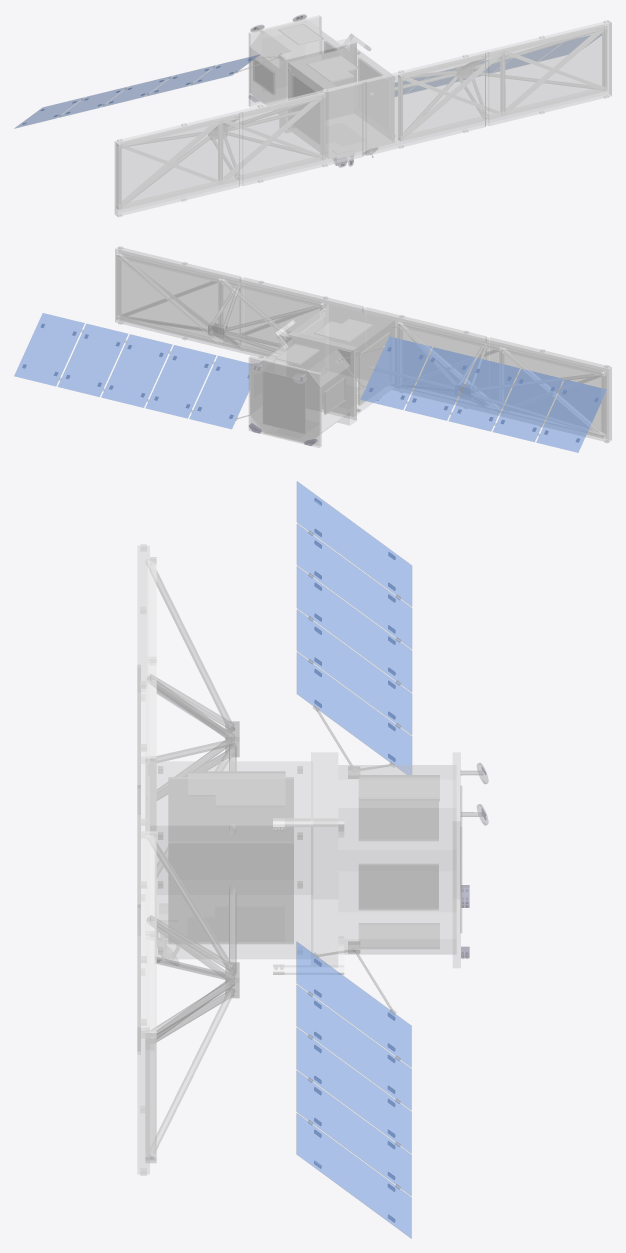
The model's file is radar-satellite-1-radarsat-1.glb.
3 renders of one model, top to bottom at view 1: azimuth 30°, elevation 25°; view 2: azimuth 150°, elevation 25°; view 3: azimuth 270°, elevation 25°, orthographic. The views are drawn at different scales.
Visible parts, largest first — view 1: mesh_0_5, mesh_0_4, mesh_0, mesh_0_16, mesh_0_8, mesh_0_12, mesh_0_1, mesh_0_14, mesh_0_9, mesh_0_6, mesh_0_15, mesh_0_10; view 2: mesh_0_9, mesh_0_8, mesh_0_4, mesh_0_5, mesh_0, mesh_0_15, mesh_0_12, mesh_0_16, mesh_0_1, mesh_0_14, mesh_0_6, mesh_0_7 (+2 smaller); view 3: mesh_0_9, mesh_0_8, mesh_0_14, mesh_0_12, mesh_0_16, mesh_0, mesh_0_1, mesh_0_4, mesh_0_10, mesh_0_5, mesh_0_2, mesh_0_7.
Boxes of the visible parts, x1,y1,x2,y2 form: mesh_0_5: (118, 23, 611, 216); mesh_0_4: (115, 22, 608, 213); mesh_0: (115, 15, 611, 217); mesh_0_16: (263, 19, 390, 88); mesh_0_8: (16, 55, 258, 127); mesh_0_12: (253, 24, 382, 157); mesh_0_1: (122, 32, 595, 205); mesh_0_14: (250, 31, 389, 103); mesh_0_9: (16, 55, 257, 127); mesh_0_6: (59, 43, 561, 116); mesh_0_15: (249, 16, 318, 105); mesh_0_10: (114, 14, 353, 167); mesh_0_9: (15, 314, 606, 452); mesh_0_8: (14, 313, 605, 451); mesh_0_4: (115, 249, 608, 442); mesh_0_5: (119, 248, 611, 439); mesh_0: (115, 246, 611, 447); mesh_0_15: (249, 305, 394, 447); mesh_0_12: (262, 309, 395, 434); mesh_0_16: (264, 305, 393, 432); mesh_0_1: (119, 255, 603, 434); mesh_0_14: (266, 305, 394, 432); mesh_0_6: (59, 330, 561, 435); mesh_0_7: (22, 324, 598, 442); mesh_0_9: (297, 482, 411, 1237); mesh_0_8: (297, 482, 411, 1237); mesh_0_14: (150, 753, 456, 965); mesh_0_12: (157, 766, 461, 969); mesh_0_16: (150, 752, 456, 964); mesh_0: (137, 544, 460, 1175); mesh_0_1: (147, 562, 236, 1154); mesh_0_4: (145, 557, 156, 1163); mesh_0_10: (157, 523, 488, 1192); mesh_0_5: (137, 665, 140, 1054); mesh_0_2: (225, 481, 411, 1238); mesh_0_7: (314, 498, 395, 1222).
Bounding box in the file's own units: 160 × 28.11 × 43.18.
